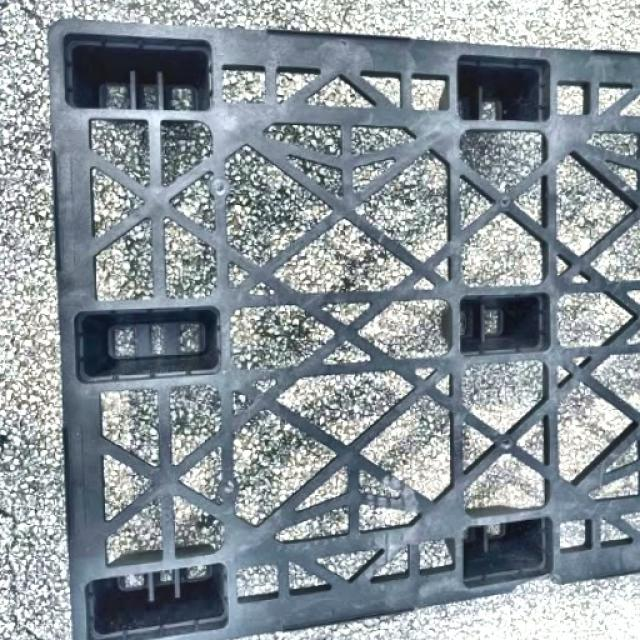non-igps: (37, 6, 640, 639)
